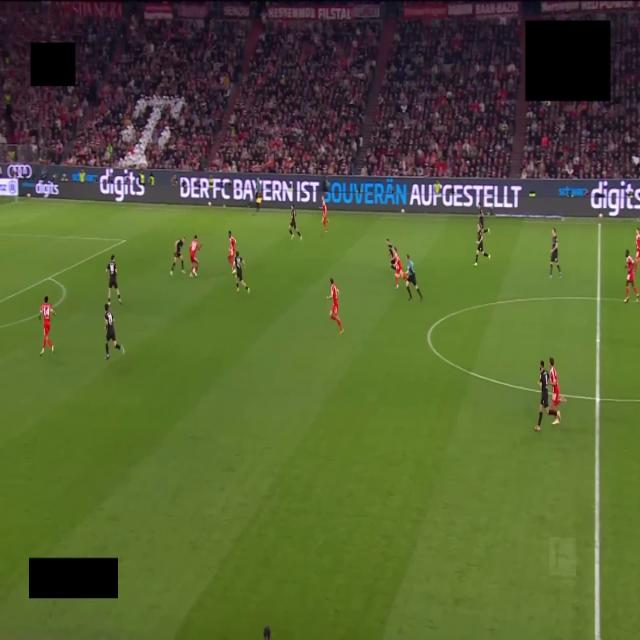player: (535, 361, 556, 431), (105, 304, 124, 359), (39, 296, 55, 355), (327, 279, 343, 333), (549, 358, 565, 409), (625, 250, 639, 303), (107, 255, 121, 305), (474, 224, 490, 266), (234, 252, 249, 293), (170, 237, 185, 275), (550, 228, 561, 278), (394, 248, 406, 288), (190, 235, 201, 277), (289, 204, 301, 239), (228, 231, 235, 274), (478, 208, 489, 233), (386, 239, 394, 270), (635, 228, 639, 272), (322, 196, 327, 231)
referee: (406, 255, 422, 300)
